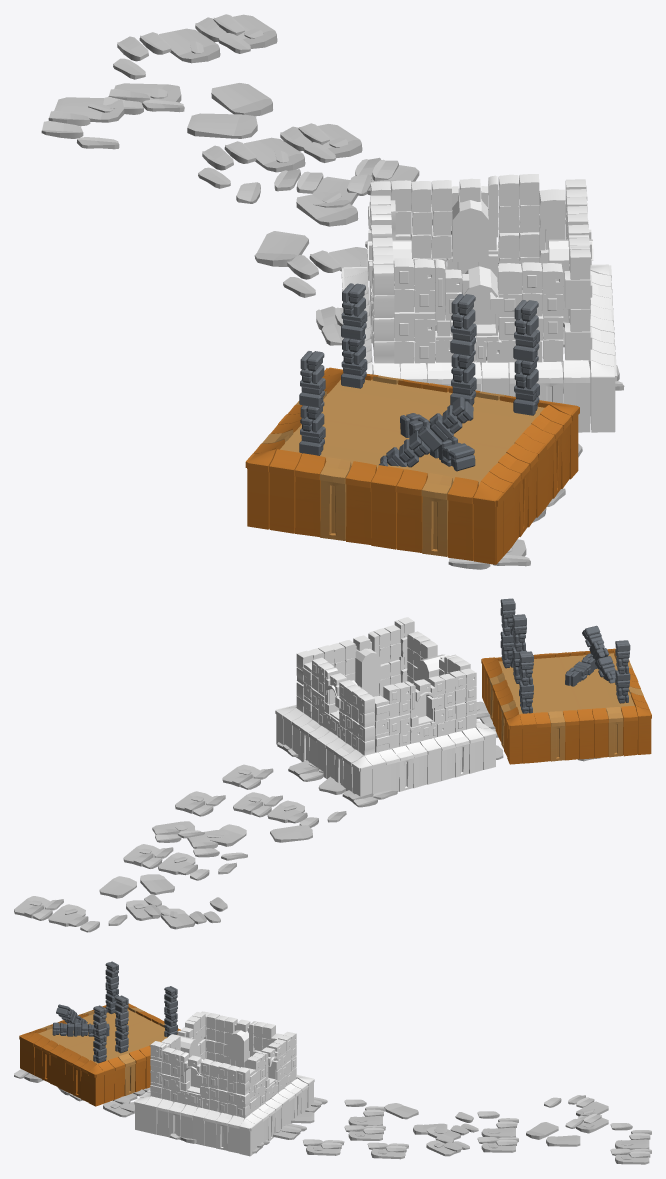
The model's file is zonaGrandearriba.fbx.
3 views of the same model, one above another, from view 1: azimuth 30°, elevation 25°; view 2: azimuth 150°, elevation 25°; view 3: azimuth 270°, elevation 25° (orthographic). The views are drawn at different scales.
Parts seen in each view (by area): view 1: group129_pCube1899; view 2: group129_pCube1899; view 3: group129_pCube1899.
Part boxes in pixels (left/top/right/bottom): group129_pCube1899: left=41, top=14, right=624, bottom=569; group129_pCube1899: left=14, top=598, right=651, bottom=932; group129_pCube1899: left=14, top=961, right=651, bottom=1164.
Bounding box in the file's own units: 5467 × 1808 × 11381.
